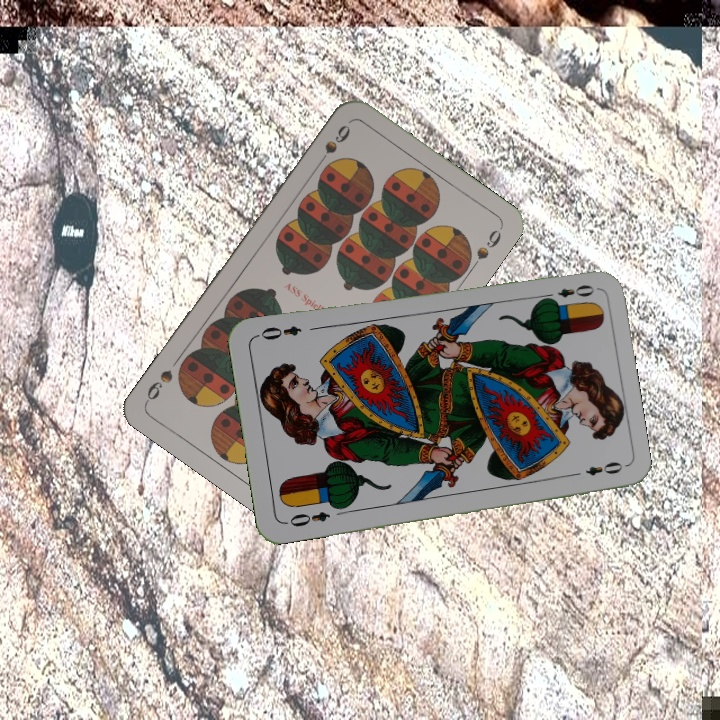EO: (539, 280, 597, 305), (281, 507, 333, 530)
S9: (312, 120, 354, 171)
